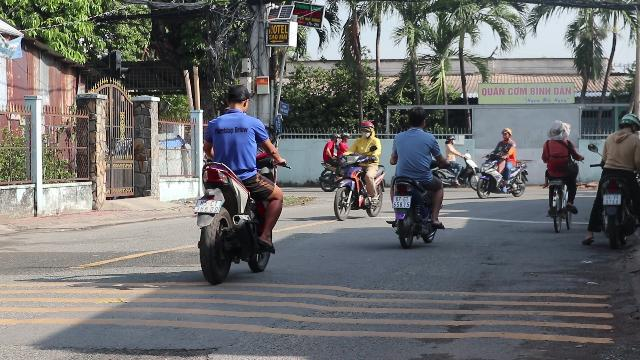helmet: (617, 113, 639, 133), (358, 120, 374, 136)
licenseplate: (194, 198, 222, 212), (393, 196, 411, 208), (603, 194, 621, 204)
motorcyclist: (191, 82, 285, 280), (384, 106, 448, 248), (588, 113, 640, 247), (330, 120, 386, 221)
nohelmet: (224, 84, 252, 112), (406, 106, 426, 130)
